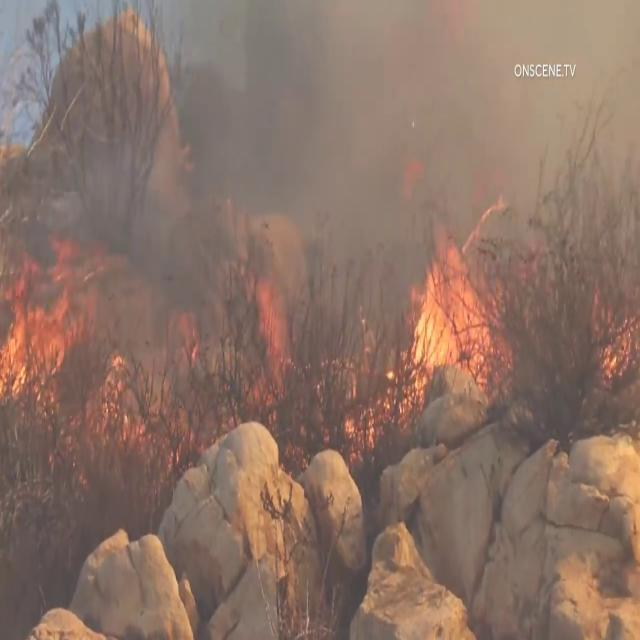Fire: (547, 409, 640, 639), (400, 220, 512, 410), (0, 240, 82, 410), (250, 258, 294, 402)
Smoke: (140, 0, 640, 277)
